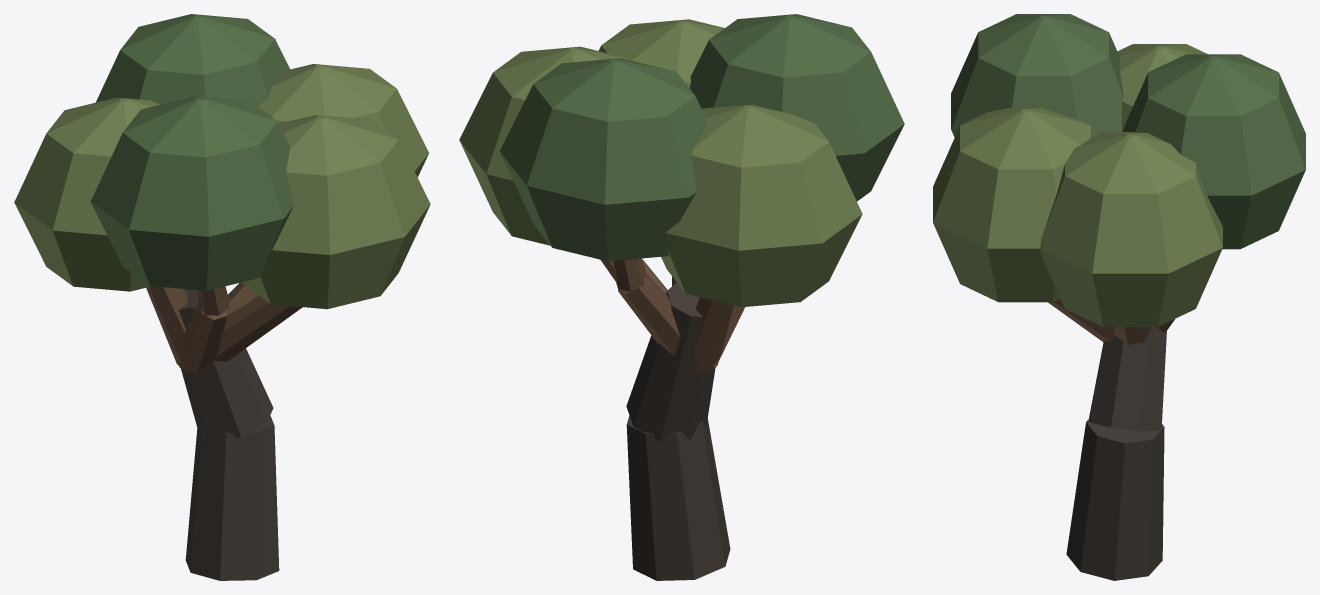
Rendered from NAT_V3_Tree_PollardAlder.glb.
3 views of the same model, side by side, from view 1: azimuth 30°, elevation 25°; view 2: azimuth 150°, elevation 25°; view 3: azimuth 270°, elevation 25° (orthographic). The views are drawn at different scales.
Parts seen in each view (by area): view 1: NAT_V3_Tree_PollardAlder; view 2: NAT_V3_Tree_PollardAlder; view 3: NAT_V3_Tree_PollardAlder.
Boxes of the visible parts, <box> form: NAT_V3_Tree_PollardAlder: <box>14,14,430,580</box>; NAT_V3_Tree_PollardAlder: <box>459,14,904,580</box>; NAT_V3_Tree_PollardAlder: <box>933,14,1305,580</box>.
Bounding box in the file's own units: 2.33 × 3.16 × 2.09.
